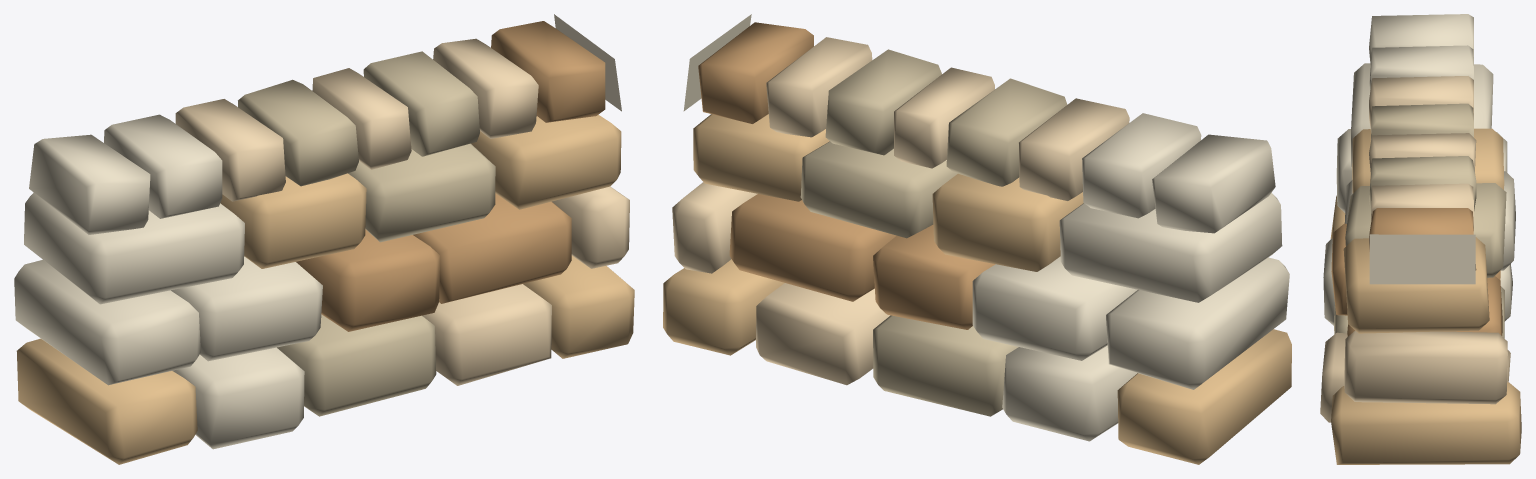
File: fence-stone-run.glb
3 views of the same model, side by side, from view 1: azimuth 30°, elevation 25°; view 2: azimuth 150°, elevation 25°; view 3: azimuth 270°, elevation 25° (orthographic). The views are drawn at different scales.
Parts seen in each view (by area): view 1: fence; view 2: fence; view 3: fence.
Boxes of the visible parts, x1,y1,x2,y2 form: fence: (14,14,634,464); fence: (663,14,1291,464); fence: (1320,14,1521,464).
Bounding box in the file's own units: 0.9981 × 0.495 × 0.3757.
